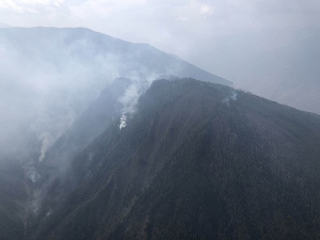smoke: (112, 71, 155, 134), (32, 127, 62, 172), (222, 89, 244, 109)
